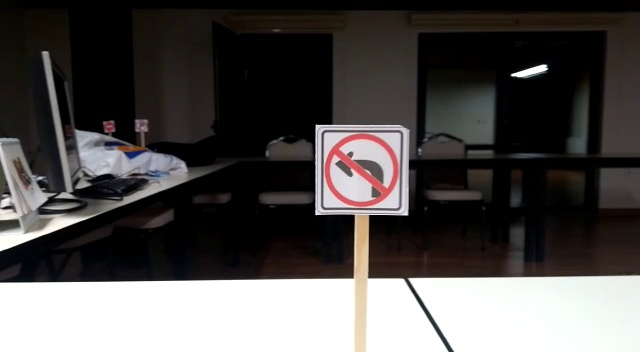sola_donulmez: (318, 126, 404, 212)
